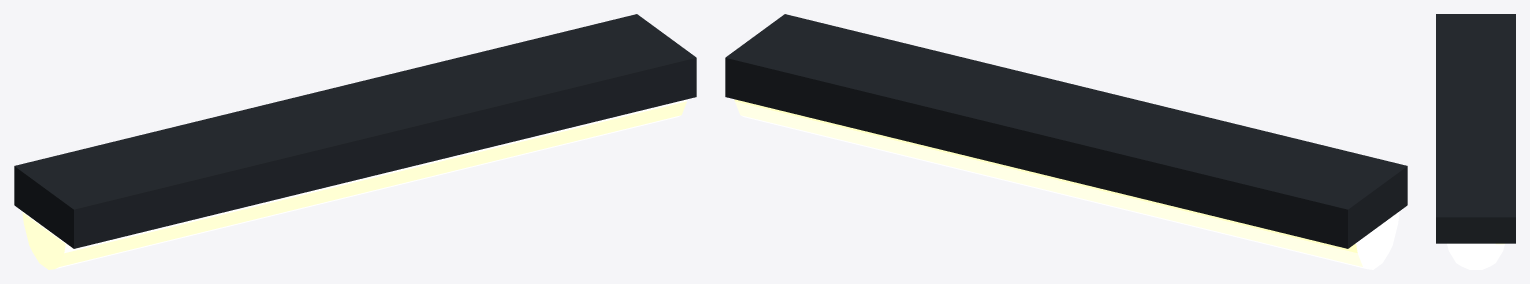
The model's file is SM_light_large.fbx.
3 views of the same model, side by side, from view 1: azimuth 30°, elevation 25°; view 2: azimuth 150°, elevation 25°; view 3: azimuth 270°, elevation 25° (orthographic). The views are drawn at different scales.
Visible parts, largest first — view 1: light_large; view 2: light_large; view 3: light_large.
Boxes of the visible parts, x1,y1,x2,y2 form: light_large: (14, 14, 696, 269); light_large: (725, 14, 1407, 269); light_large: (1436, 14, 1515, 269).
Size of the model in its own units: 183 by 22.14 by 30.41.
